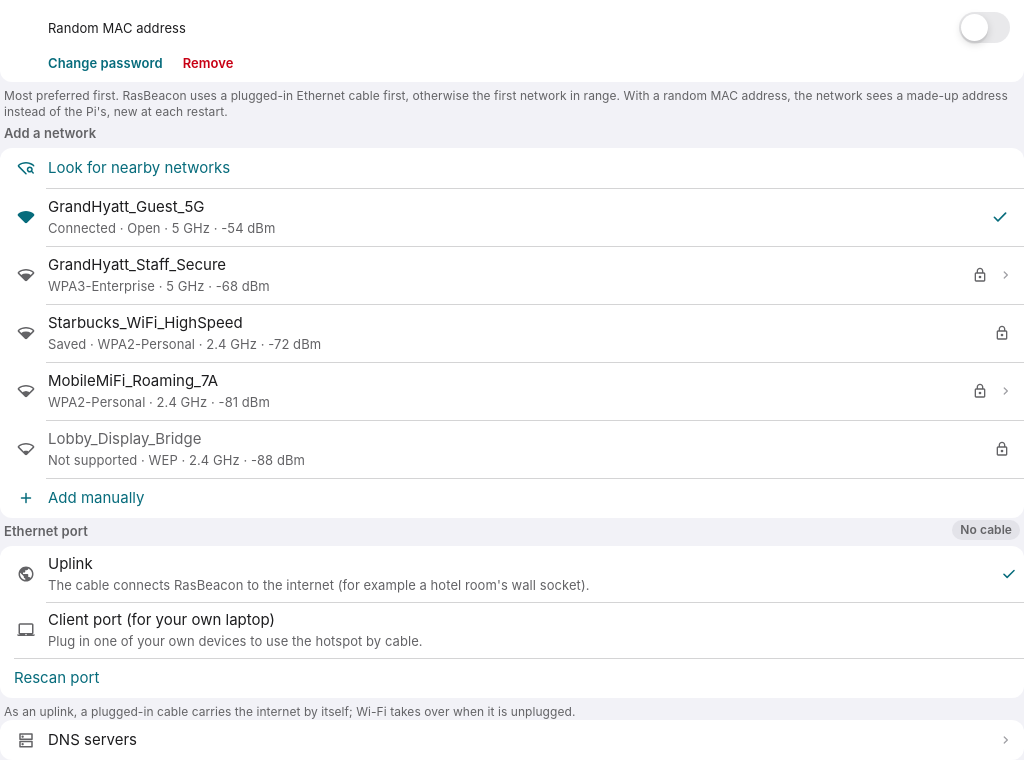
Test: adding a network › Enterprise with a certificate asks for your certificate, key and passphrase
(page scrolled)
Click the button "Add manually" at (96, 498), box [0,478,1023,518]
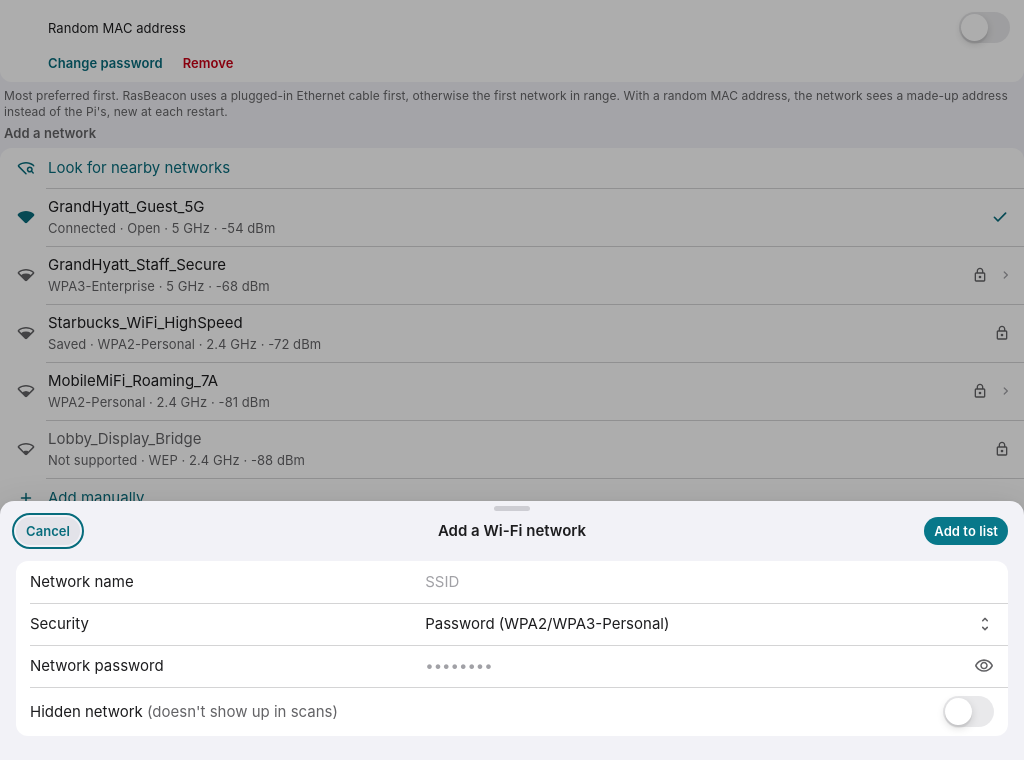
Select "Username and password (WPA2/WPA3-Enterprise)" in the dropdown labelled "Security" at (710, 624), box [425,612,994,636]
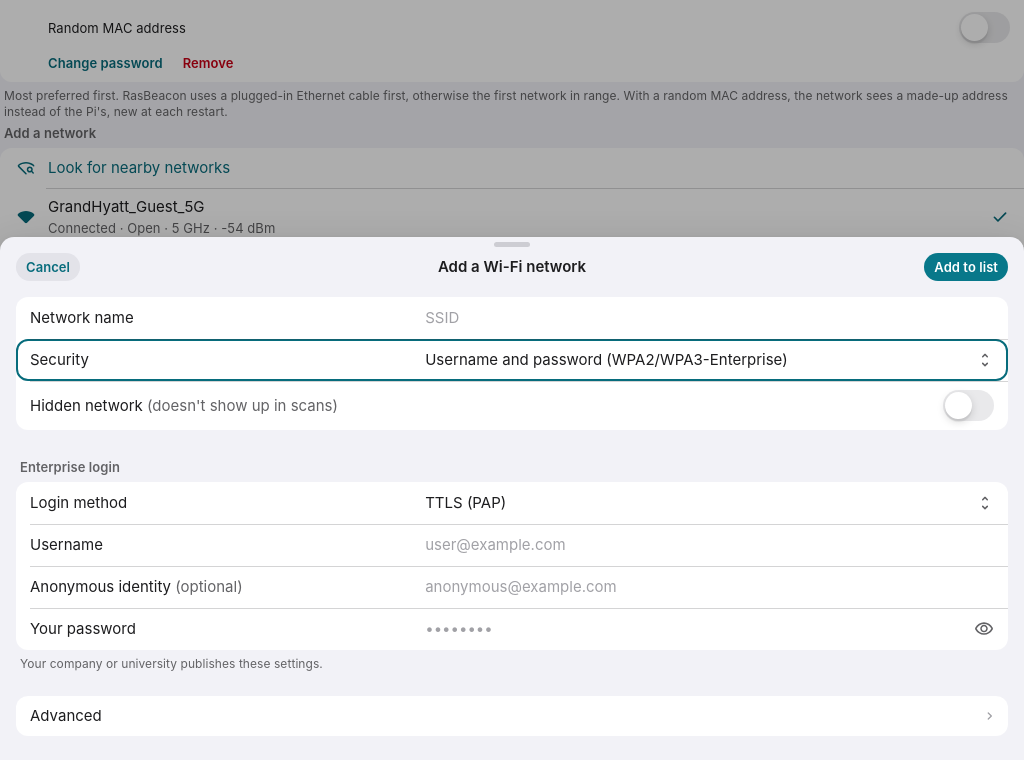
Select "TLS (certificate)" in the dropdown labelled "Login method" at (710, 503), box [425,491,994,515]
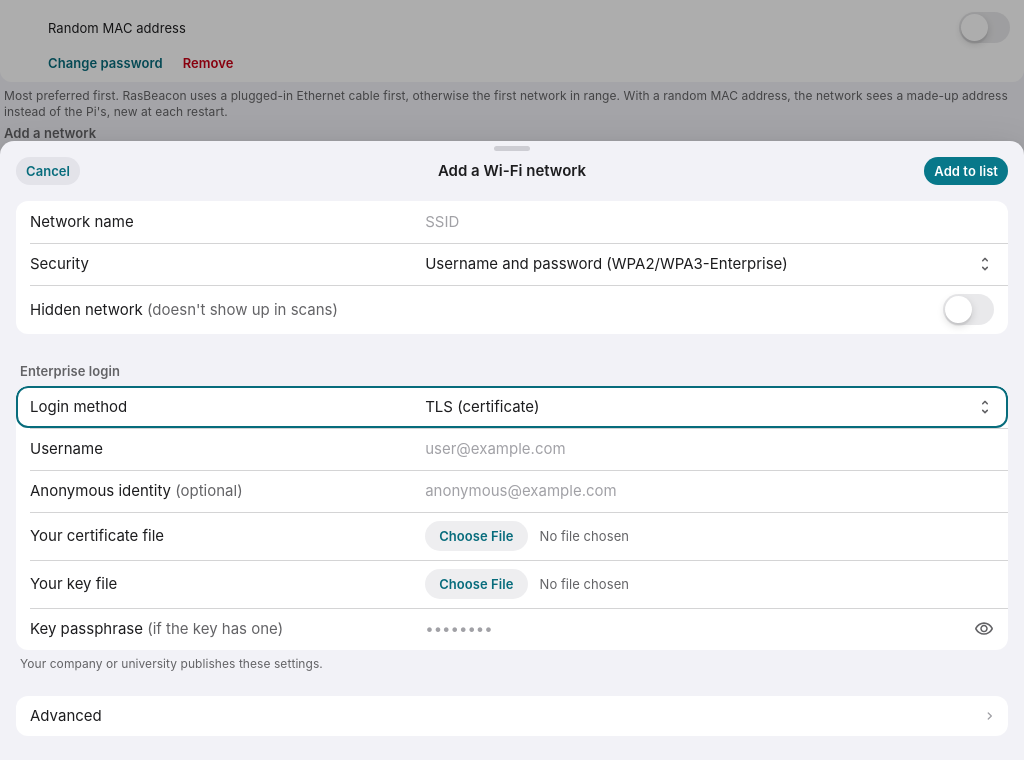
Expected: the file field labelled "Your certificate file" is shown, [425,521,994,551]
Expected: the file field labelled "Your key file" is shown, [425,569,994,599]
Expected: the label labelled "Your password" is gone
